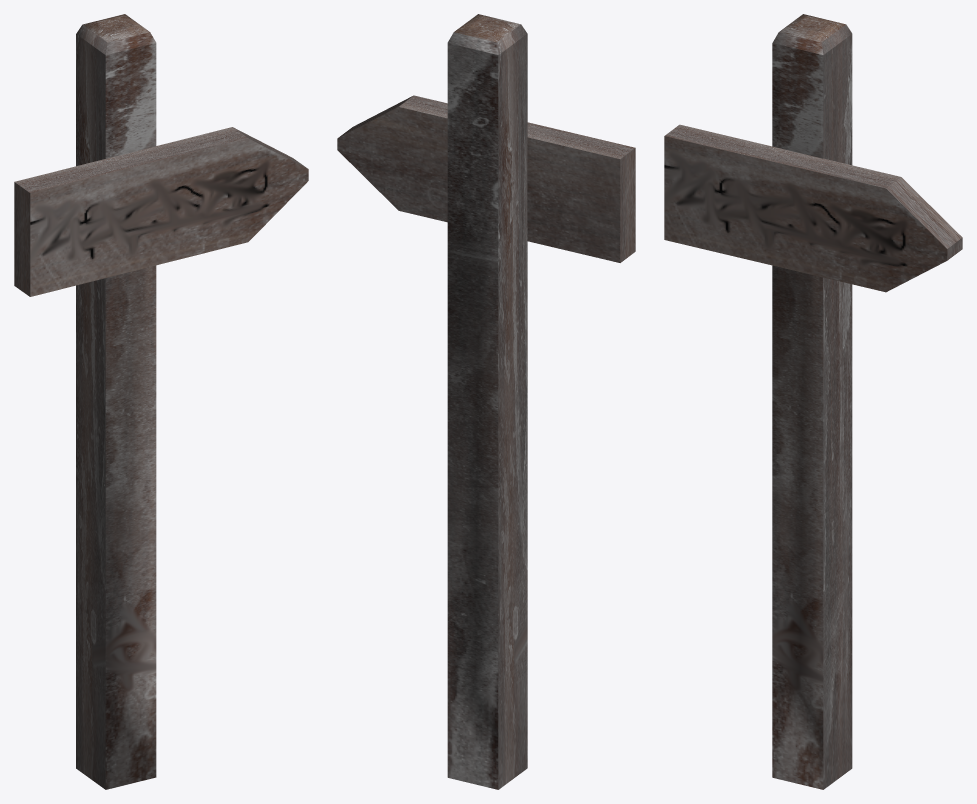
File: Cartel_Der.obj
3 views of the same model, side by side, from view 1: azimuth 30°, elevation 25°; view 2: azimuth 150°, elevation 25°; view 3: azimuth 330°, elevation 25° (orthographic).
Visible parts, largest first — view 1: Cube.038; view 2: Cube.038; view 3: Cube.038.
Boxes of the visible parts, x1,y1,x2,y2 form: Cube.038: (14, 14, 308, 789); Cube.038: (337, 14, 635, 789); Cube.038: (664, 14, 962, 789).
Size of the model in its own units: 0.9043 by 2.3 by 0.2549.
1 material, 1 textured.
